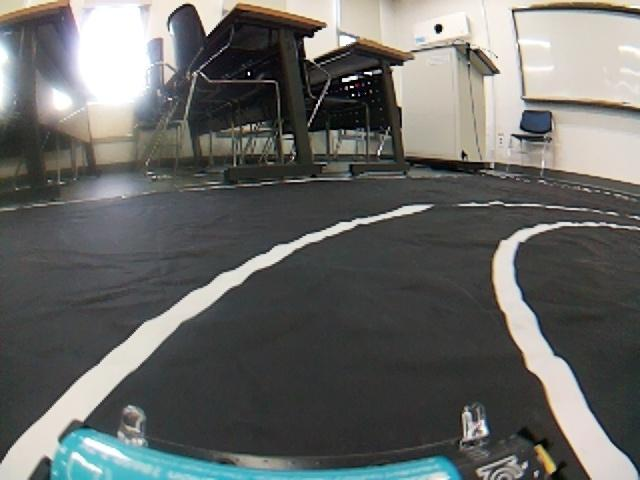right: (1, 207, 640, 479)
